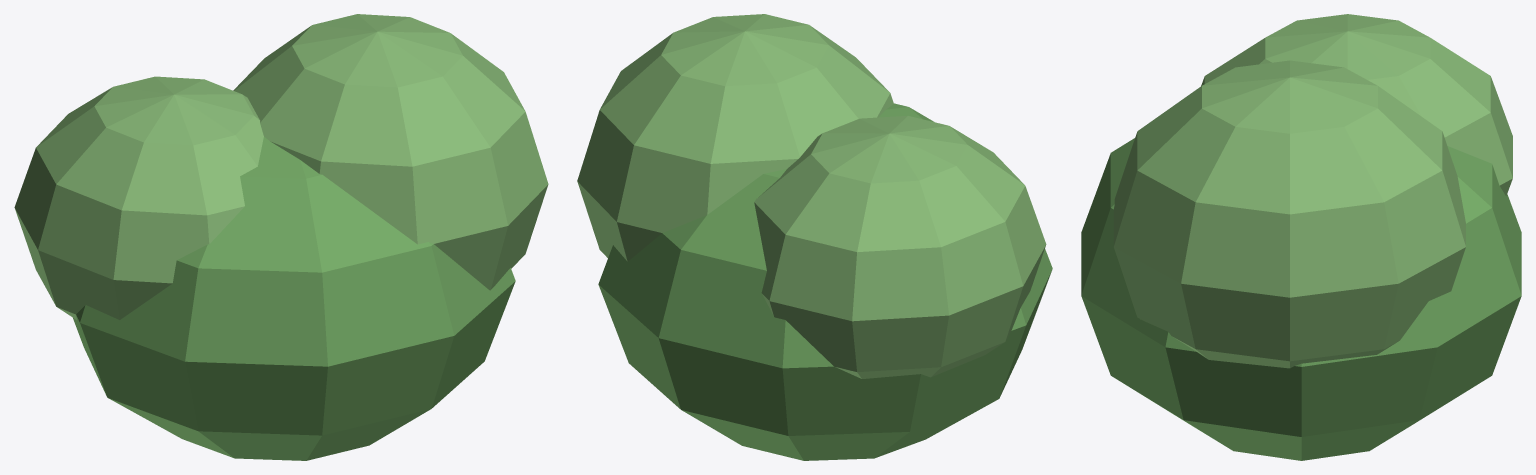
Rendered from shrub.glb.
The picture shows the model from 3 angles, left to right: view 1: azimuth 30°, elevation 25°; view 2: azimuth 150°, elevation 25°; view 3: azimuth 270°, elevation 25°; orthographic projection. The views are drawn at different scales.
Parts seen in each view (by area): view 1: shrub; view 2: shrub; view 3: shrub.
Boxes of the visible parts, x1,y1,x2,y2 form: shrub: [14, 14, 548, 460]; shrub: [577, 14, 1052, 460]; shrub: [1081, 14, 1521, 460].
Bounding box in the file's own units: 0.94 × 0.76 × 0.7608.
